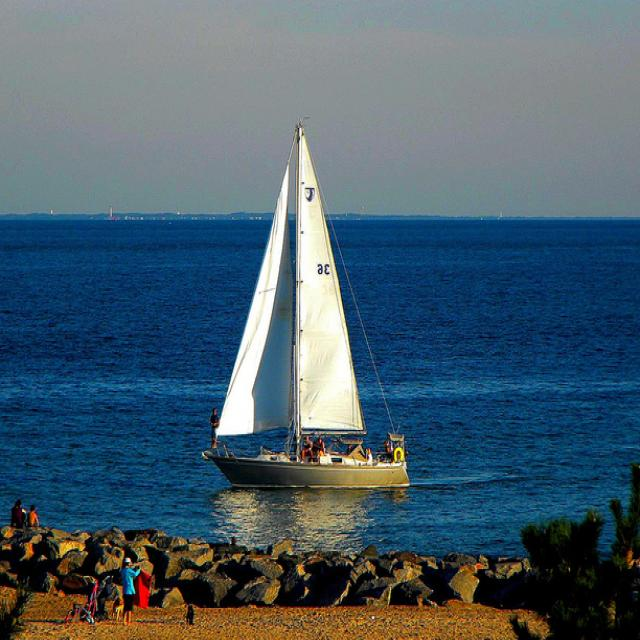sailboat: (203, 128, 404, 490)
